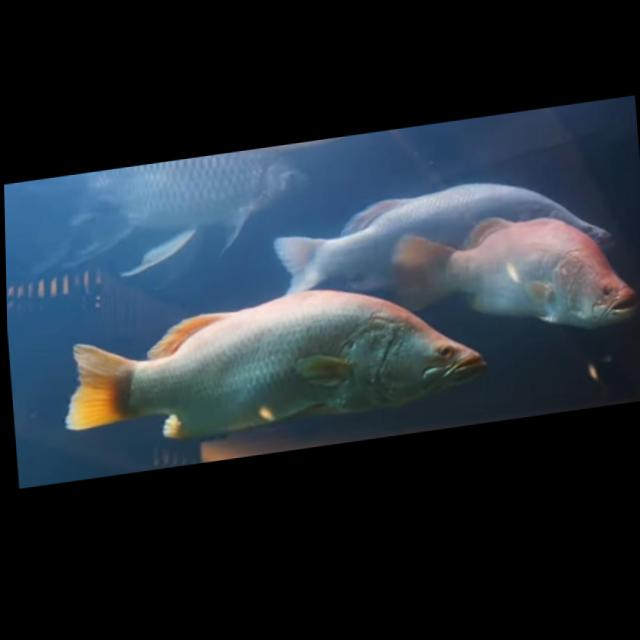Seabass: (56, 263, 495, 456), (390, 194, 640, 353)
